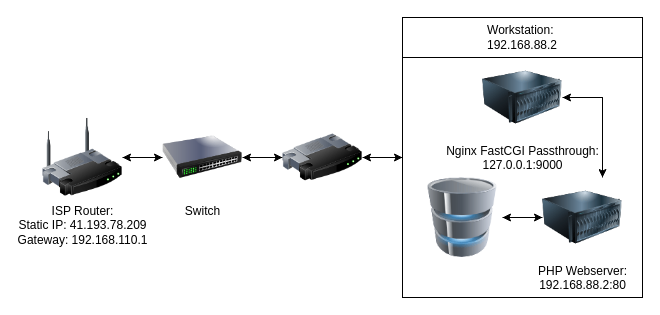
Some shapes in this 660 by 315 pixel diagram are drawn without their labels. Here are the shapes that lost their labels. From the top down, the box of each, then its label:
(282, 117, 362, 197): MikroTik Router: Static IP: 192.168.110.10 Gateway: 192.168.88.1
(422, 177, 502, 257): MySQL Database: 127.0.0.1:3306
